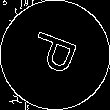P_E: (25, 29, 85, 81)
